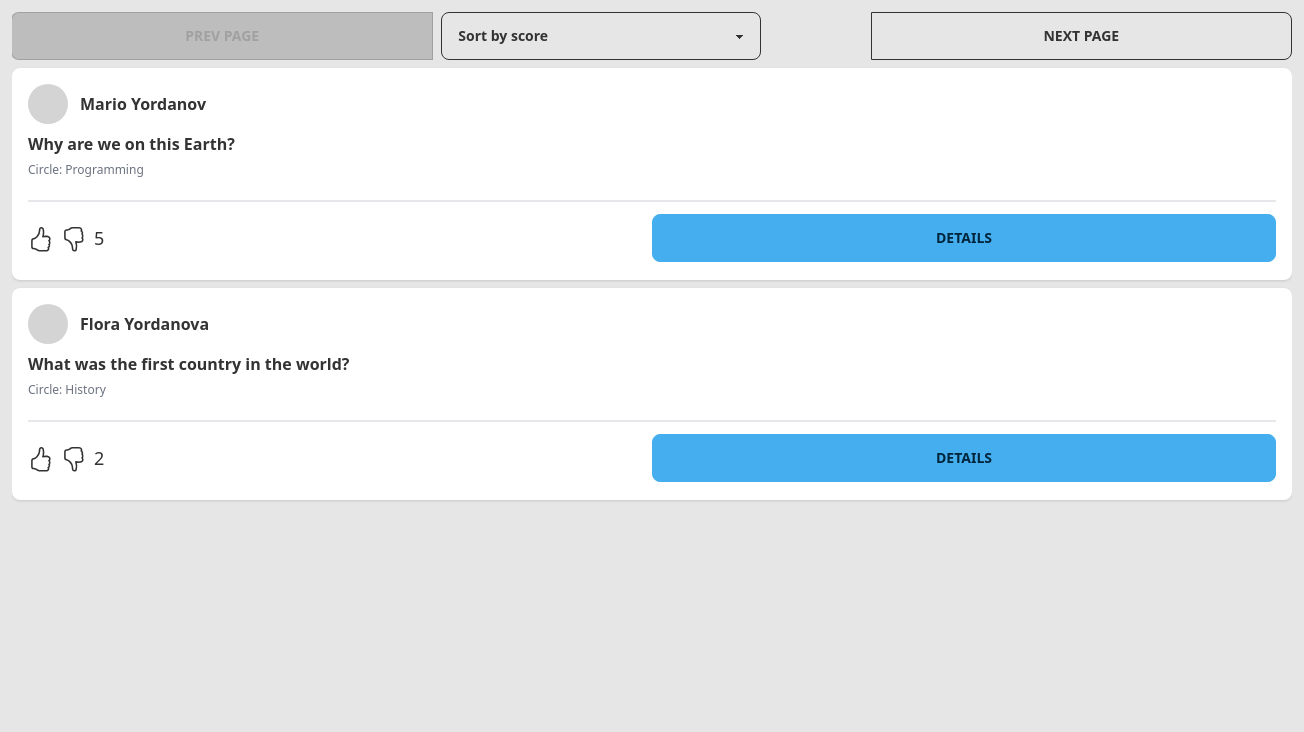
Test: answers feed › upvote and downvote click updates the score
Click the 1st button with test id "upvoteBtn" at (40, 239), box [28, 214, 53, 264]
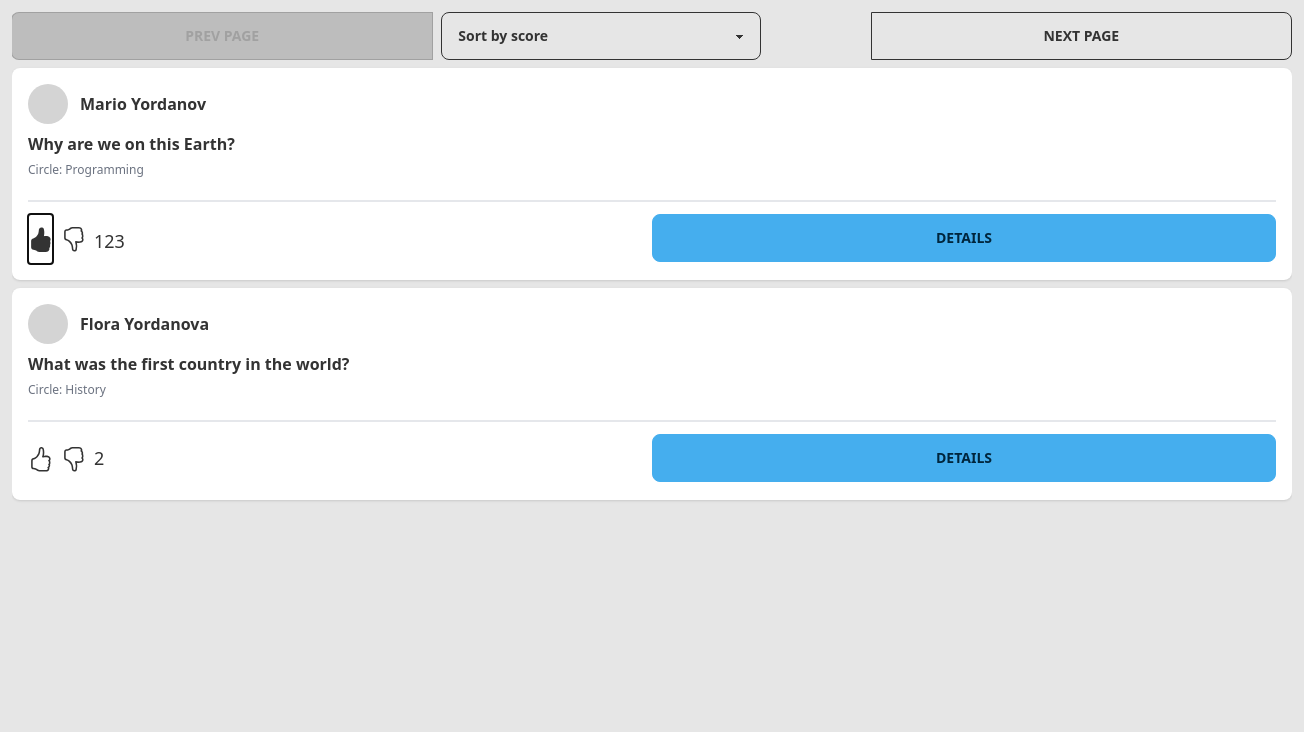
Expected: the text with test id "score" reads "123", [94, 229, 125, 253]
Click the 1st button with test id "downvoteBtn" at (74, 239), box [61, 214, 86, 264]
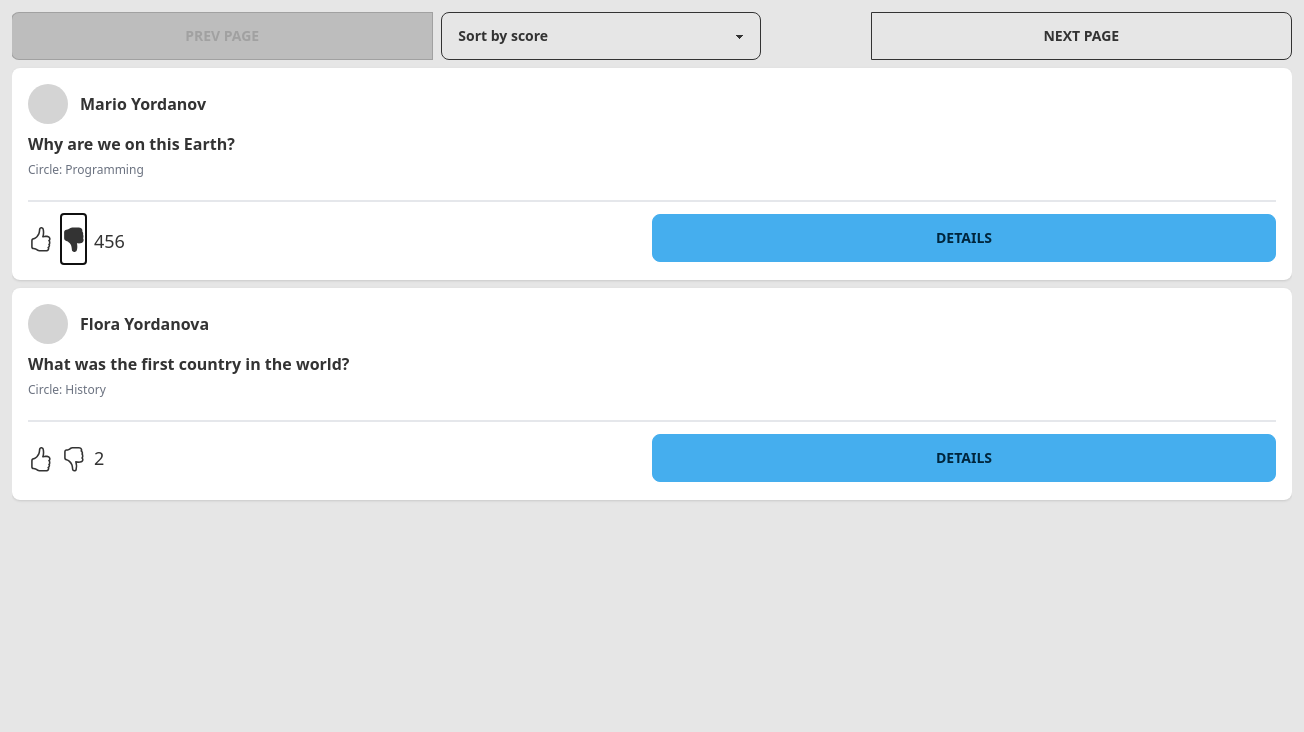
Expected: the text with test id "score" reads "456", [94, 229, 125, 253]
